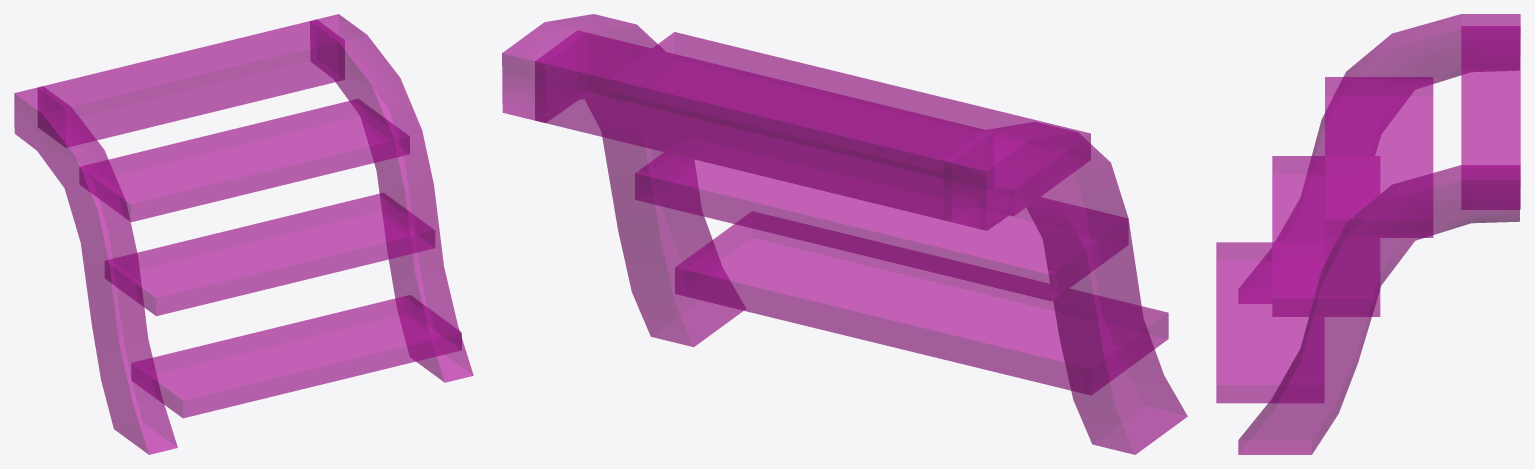
The model's file is SM_Veh_Wagon_Steps_01_Collision.fbx.
3 renders of one model, left to right at view 1: azimuth 30°, elevation 25°; view 2: azimuth 150°, elevation 25°; view 3: azimuth 270°, elevation 25°, orthographic. The views are drawn at different scales.
Parts seen in each view (by area): view 1: SM_Veh_Wagon_Steps_01_Collision; view 2: SM_Veh_Wagon_Steps_01_Collision; view 3: SM_Veh_Wagon_Steps_01_Collision.
Boxes of the visible parts, x1=… form: SM_Veh_Wagon_Steps_01_Collision: x1=14, y1=14, x2=473, y2=454; SM_Veh_Wagon_Steps_01_Collision: x1=502, y1=14, x2=1187, y2=454; SM_Veh_Wagon_Steps_01_Collision: x1=1216, y1=14, x2=1520, y2=454.
Size of the model in its own units: 131 by 102 by 102.
